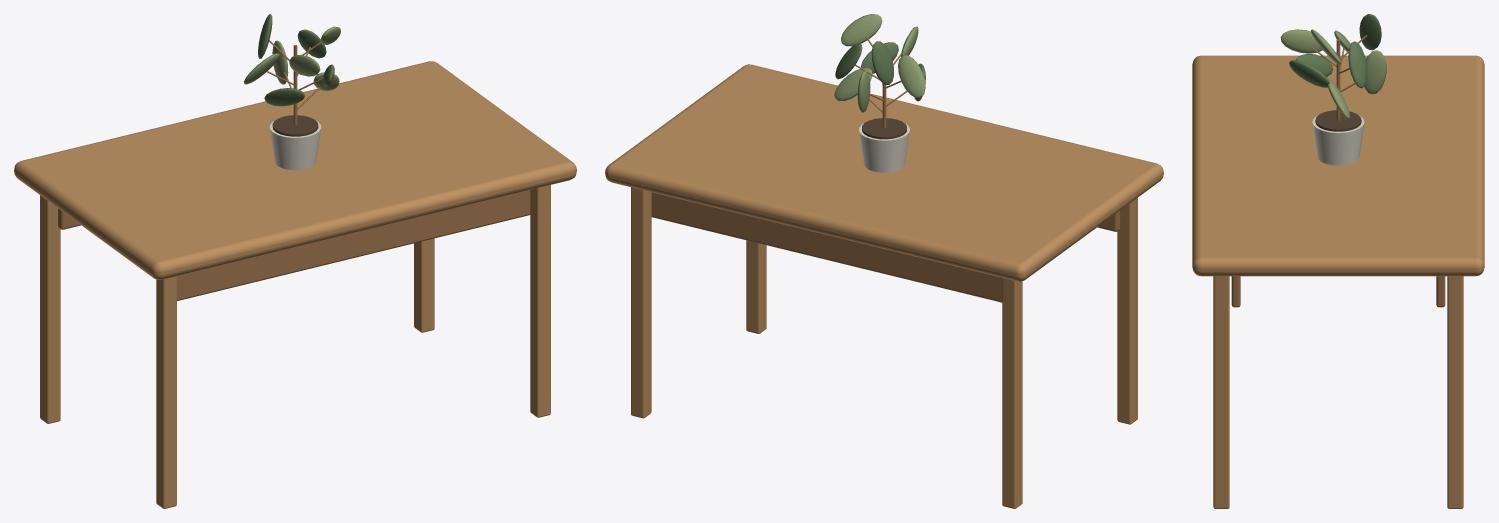
3 renders of one model, left to right at view 1: azimuth 30°, elevation 25°; view 2: azimuth 150°, elevation 25°; view 3: azimuth 270°, elevation 25°, orthographic.
Parts seen in each view (by area): view 1: Solid oak tabletop, Tapered leg (×4), Apron, Matte ceramic planter, Pot soil; view 2: Solid oak tabletop, Tapered leg (×4), Apron, Leaf (×4), Matte ceramic planter, Pot soil; view 3: Solid oak tabletop, Tapered leg (×2), Leaf (×8), Matte ceramic planter, Pot soil.
Part boxes in pixels (<box>): Solid oak tabletop: <box>14,61,576,279</box>; Tapered leg (×4): <box>40,185,550,508</box>; Apron: <box>177,190,530,300</box>; Matte ceramic planter: <box>269,120,321,170</box>; Pot soil: <box>272,115,318,136</box>; Solid oak tabletop: <box>605,64,1163,281</box>; Tapered leg (×4): <box>631,187,1137,508</box>; Apron: <box>651,192,1002,302</box>; Leaf (×4): <box>834,14,925,100</box>; Matte ceramic planter: <box>859,123,909,172</box>; Pot soil: <box>862,118,906,139</box>; Solid oak tabletop: <box>1192,55,1484,276</box>; Tapered leg (×2): <box>1213,276,1463,508</box>; Leaf (×8): <box>1280,14,1386,119</box>; Matte ceramic planter: <box>1312,115,1364,165</box>; Pot soil: <box>1315,110,1361,131</box>.
Bounding box in the file's own units: 1.35 × 1.2 × 0.8.
